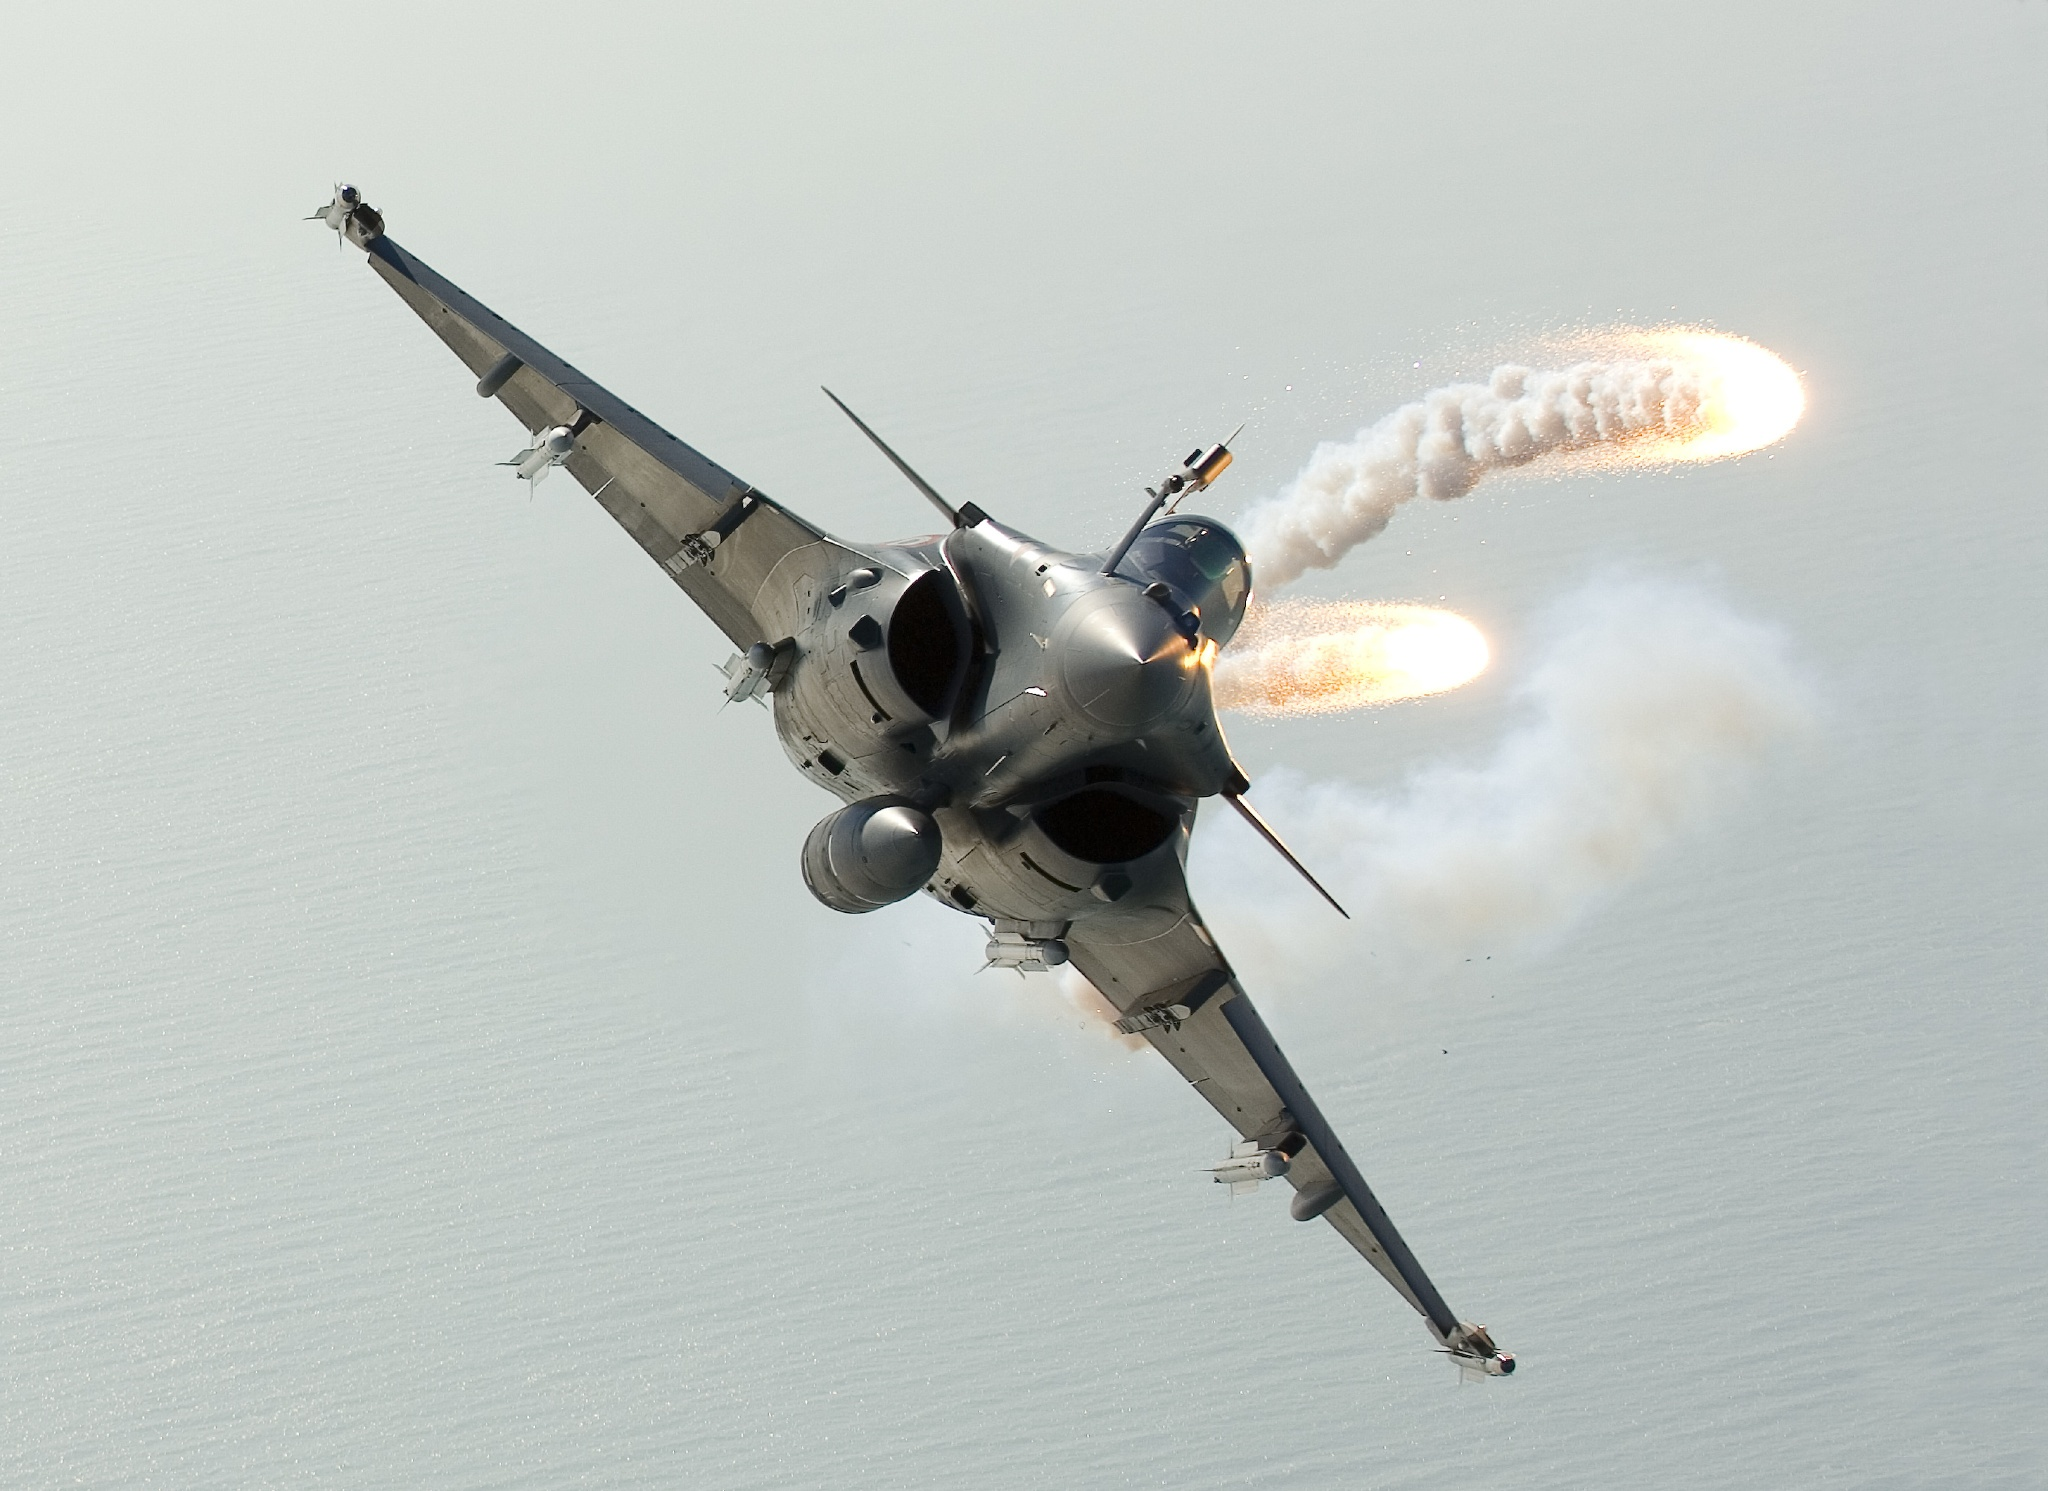airplane: (304, 168, 1523, 1381)
